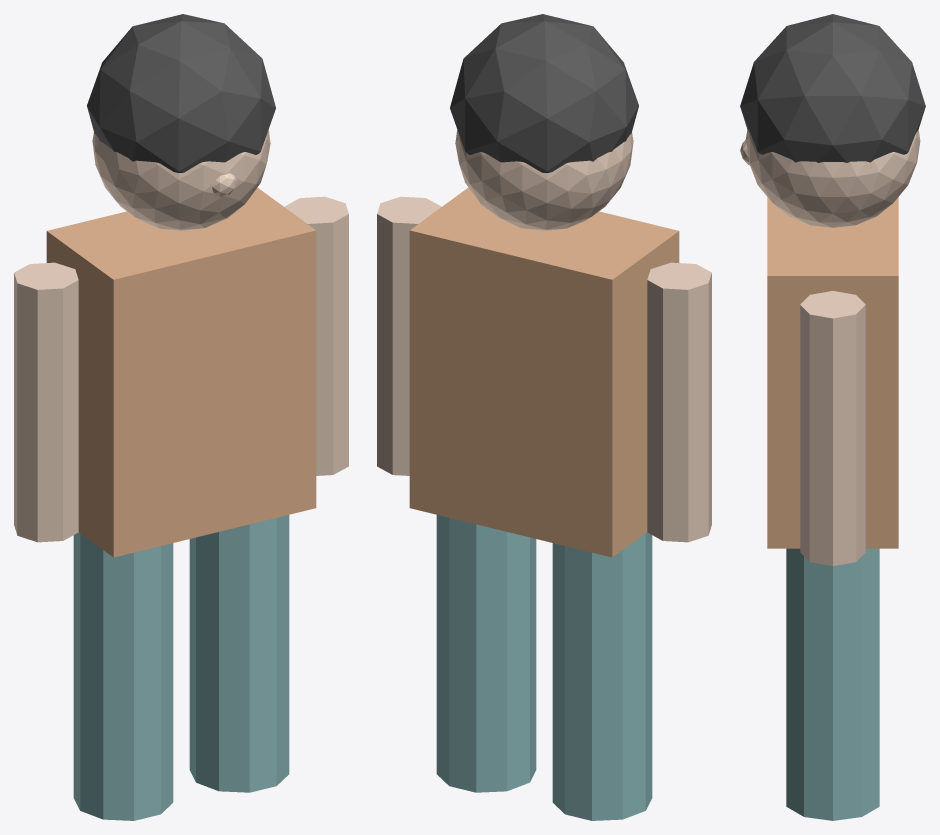
The model's file is sim_child_athletic.glb.
3 renders of one model, left to right at view 1: azimuth 30°, elevation 25°; view 2: azimuth 150°, elevation 25°; view 3: azimuth 270°, elevation 25°, orthographic.
Parts seen in each view (by area): view 1: p002, p000, p001, p006, p003, p004, p005; view 2: p002, p000, p001, p006, p003, p004, p005; view 3: p002, p001, p006, p004, p005.
Boxes of the visible parts, <box> form: p002: <box>46,187,316,557</box>; p000: <box>73,532,173,820</box>; p001: <box>189,515,289,792</box>; p006: <box>87,14,275,172</box>; p003: <box>14,262,78,542</box>; p004: <box>284,196,348,475</box>; p005: <box>92,130,270,230</box>; p002: <box>409,187,679,557</box>; p000: <box>552,532,652,820</box>; p001: <box>436,515,536,792</box>; p006: <box>450,14,638,172</box>; p003: <box>647,262,711,542</box>; p004: <box>377,196,441,475</box>; p005: <box>455,130,633,230</box>; p002: <box>767,197,898,548</box>; p001: <box>786,548,879,820</box>; p006: <box>740,14,925,162</box>; p004: <box>800,291,865,565</box>; p005: <box>745,130,920,227</box>.
Size of the model in its own units: 0.476 by 1.06 by 0.238.
